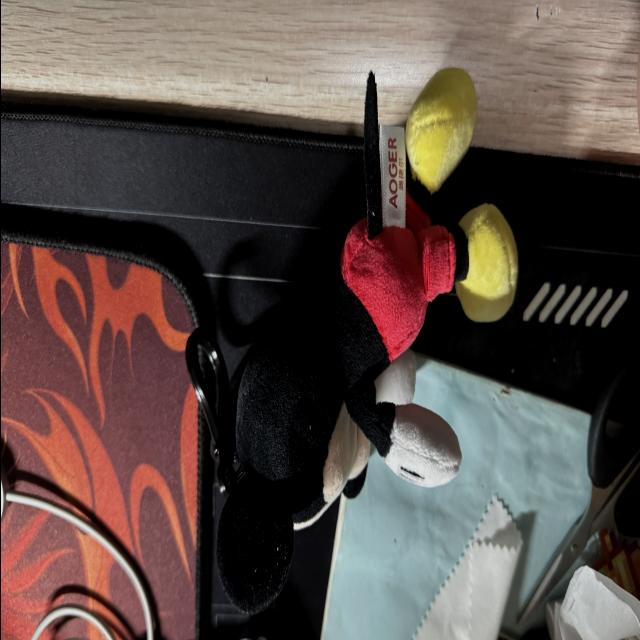mickey: (216, 196, 516, 613)
tissue: (546, 567, 639, 639)
